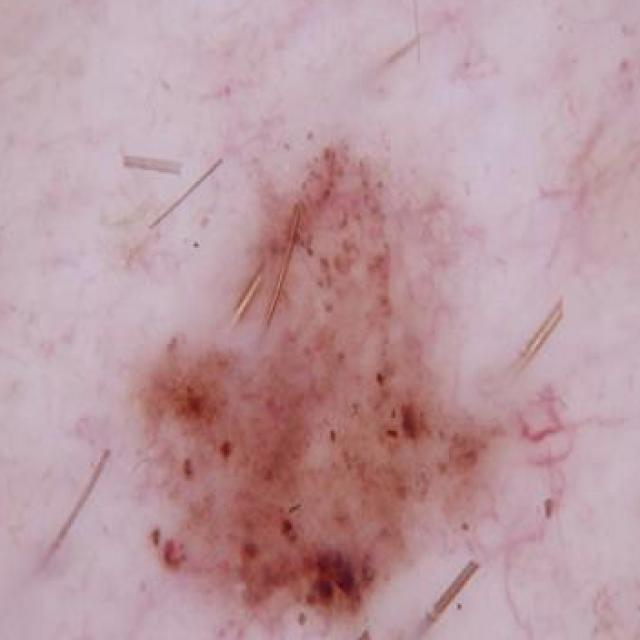NV: (87, 138, 554, 640)
